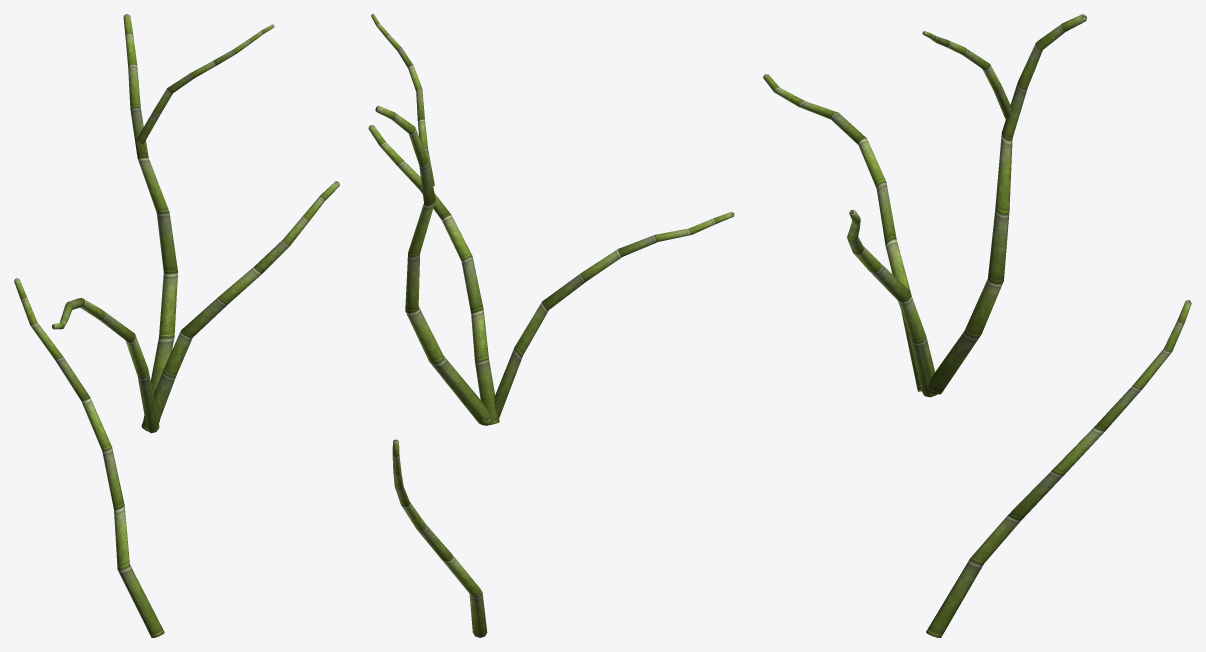
The model's file is BambooSet_part_27.fbx.
The picture shows the model from 3 angles, left to right: view 1: azimuth 30°, elevation 25°; view 2: azimuth 150°, elevation 25°; view 3: azimuth 270°, elevation 25°; orthographic projection. The views are drawn at different scales.
Visible parts, largest first — view 1: Object_50.001; view 2: Object_50.001; view 3: Object_50.001.
Part boxes in pixels (box(x1,y1,x2,y2)): Object_50.001: box(14, 14, 339, 637); Object_50.001: box(368, 14, 734, 637); Object_50.001: box(763, 14, 1191, 637).
Bounding box in the file's own units: 528 × 914 × 532.
